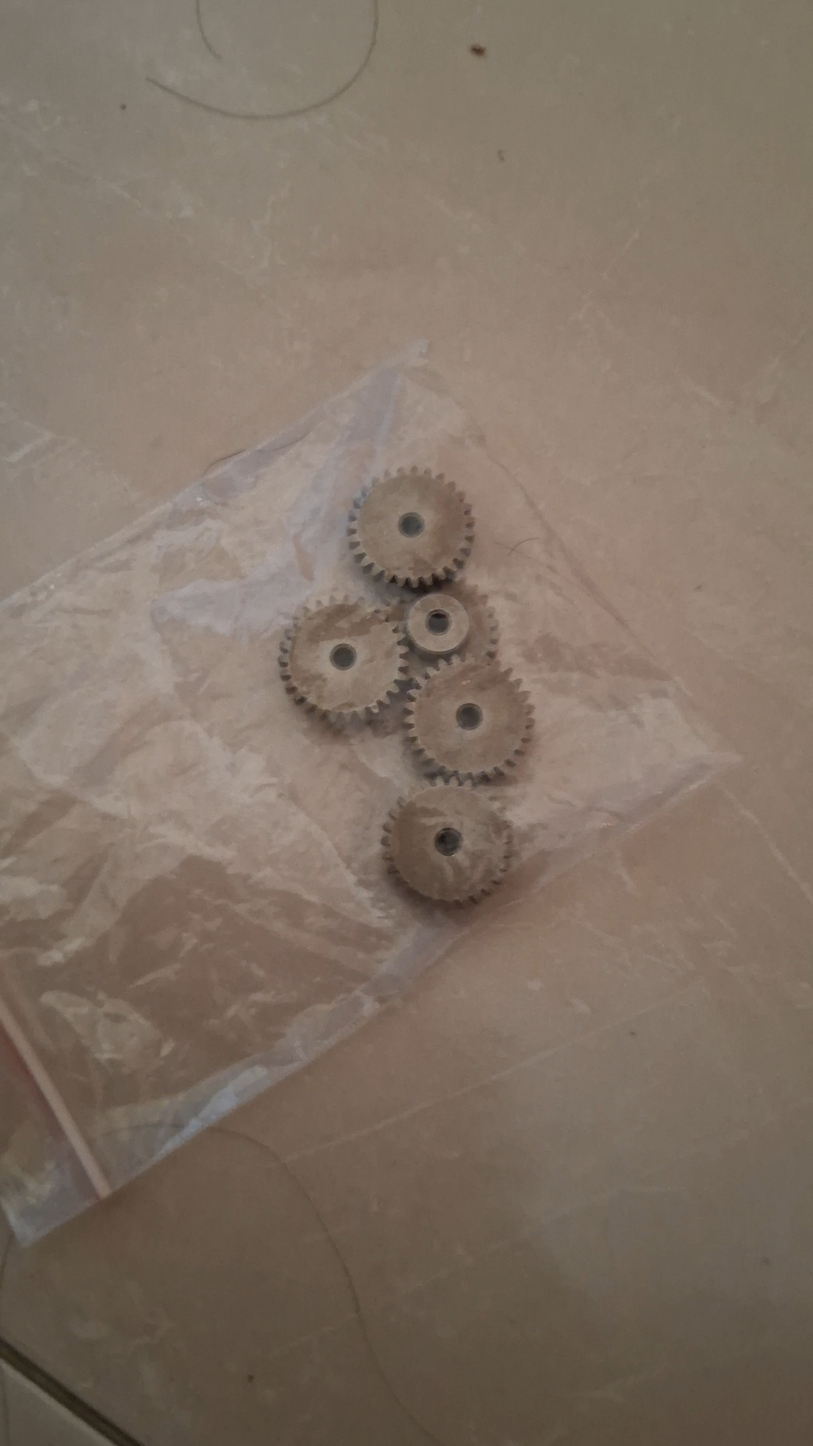spur gear: (405, 658, 533, 782), (279, 599, 408, 721), (382, 781, 512, 902), (348, 467, 474, 589), (403, 582, 498, 660)
